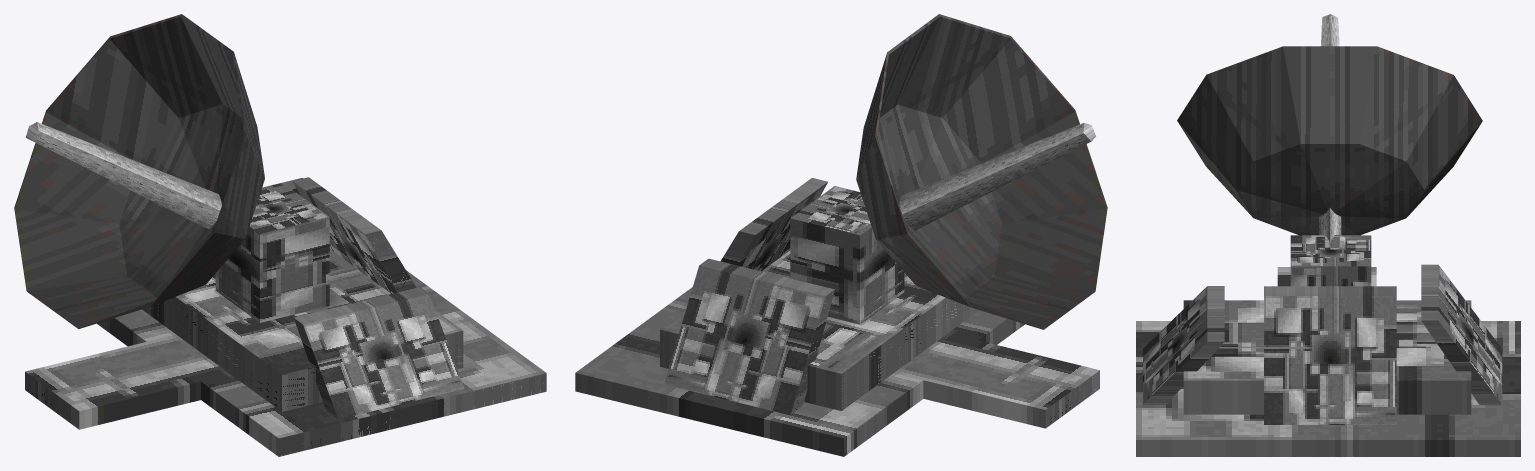
File: dishgun.obj
3 renders of one model, left to right at view 1: azimuth 30°, elevation 25°; view 2: azimuth 150°, elevation 25°; view 3: azimuth 270°, elevation 25°, orthographic. The views are drawn at different scales.
Size of the model in its own units: 13.71 by 10.72 by 12.17.
Materials: 3 (3 with a texture image).
